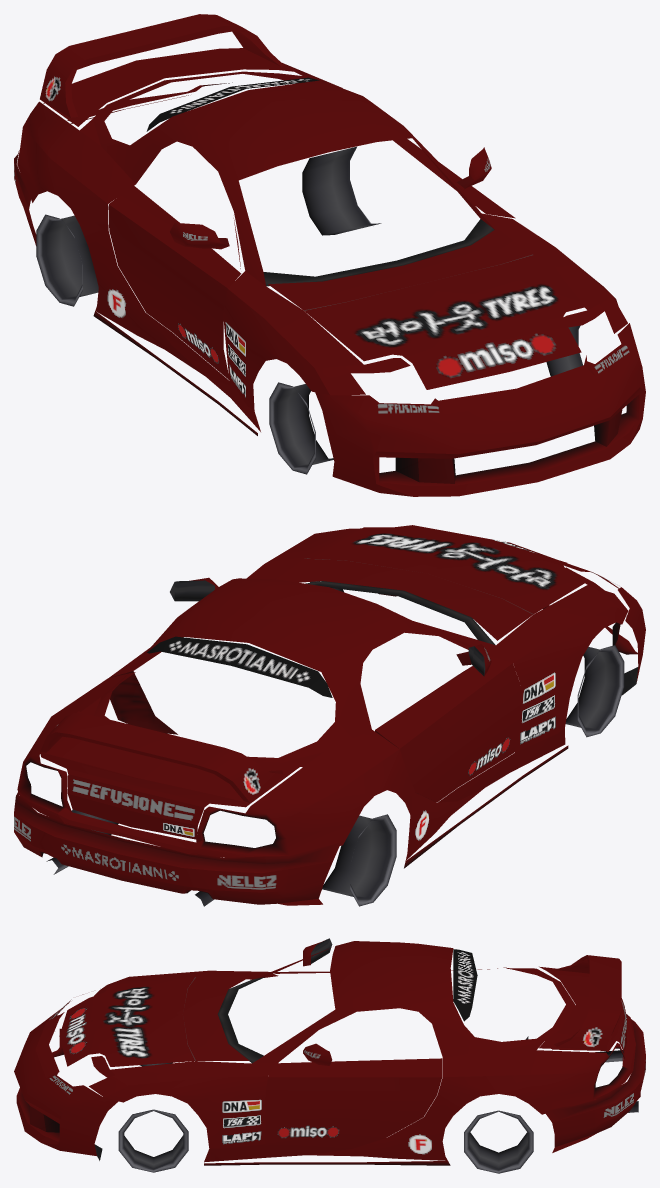
The model's file is car-SPRT_Car4.glb.
3 renders of one model, top to bottom at view 1: azimuth 30°, elevation 25°; view 2: azimuth 150°, elevation 25°; view 3: azimuth 270°, elevation 25°, orthographic. The views are drawn at different scales.
Parts seen in each view (by area): view 1: SPRT_Car4; view 2: SPRT_Car4; view 3: SPRT_Car4.
Boxes of the visible parts, <box> form: SPRT_Car4: <box>14,14,645,496</box>; SPRT_Car4: <box>14,525,645,906</box>; SPRT_Car4: <box>14,938,645,1173</box>.
Size of the model in its own units: 1.87 by 1.15 by 4.31.
19 materials, 19 textured.
